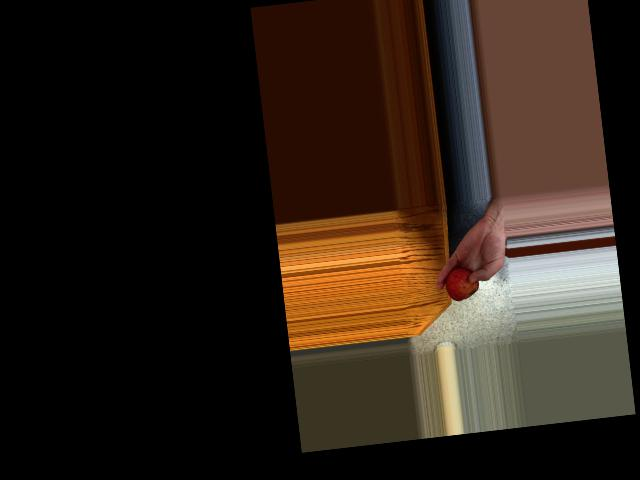apple: (442, 258, 482, 304)
